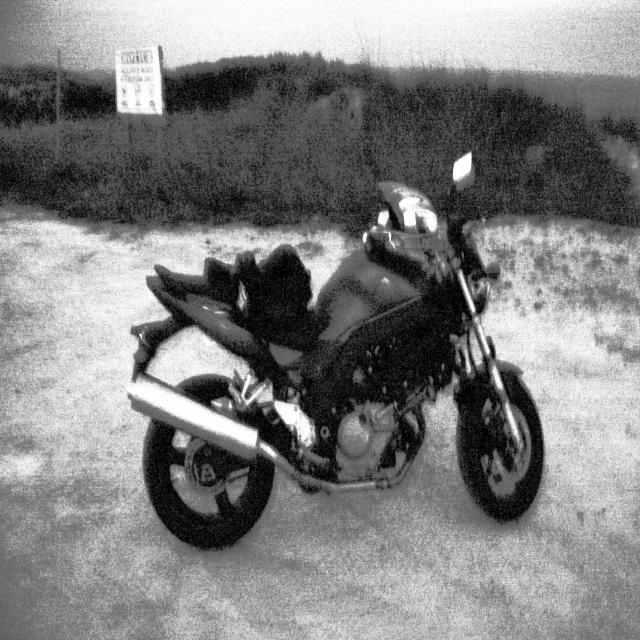Motorcycle: (127, 127, 551, 566)
